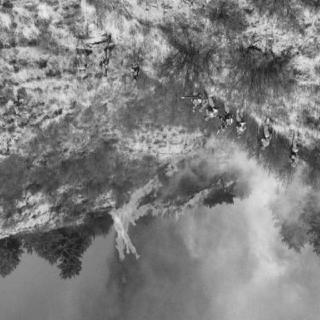Fire: (105, 143, 242, 255)
other: (9, 85, 23, 123)
